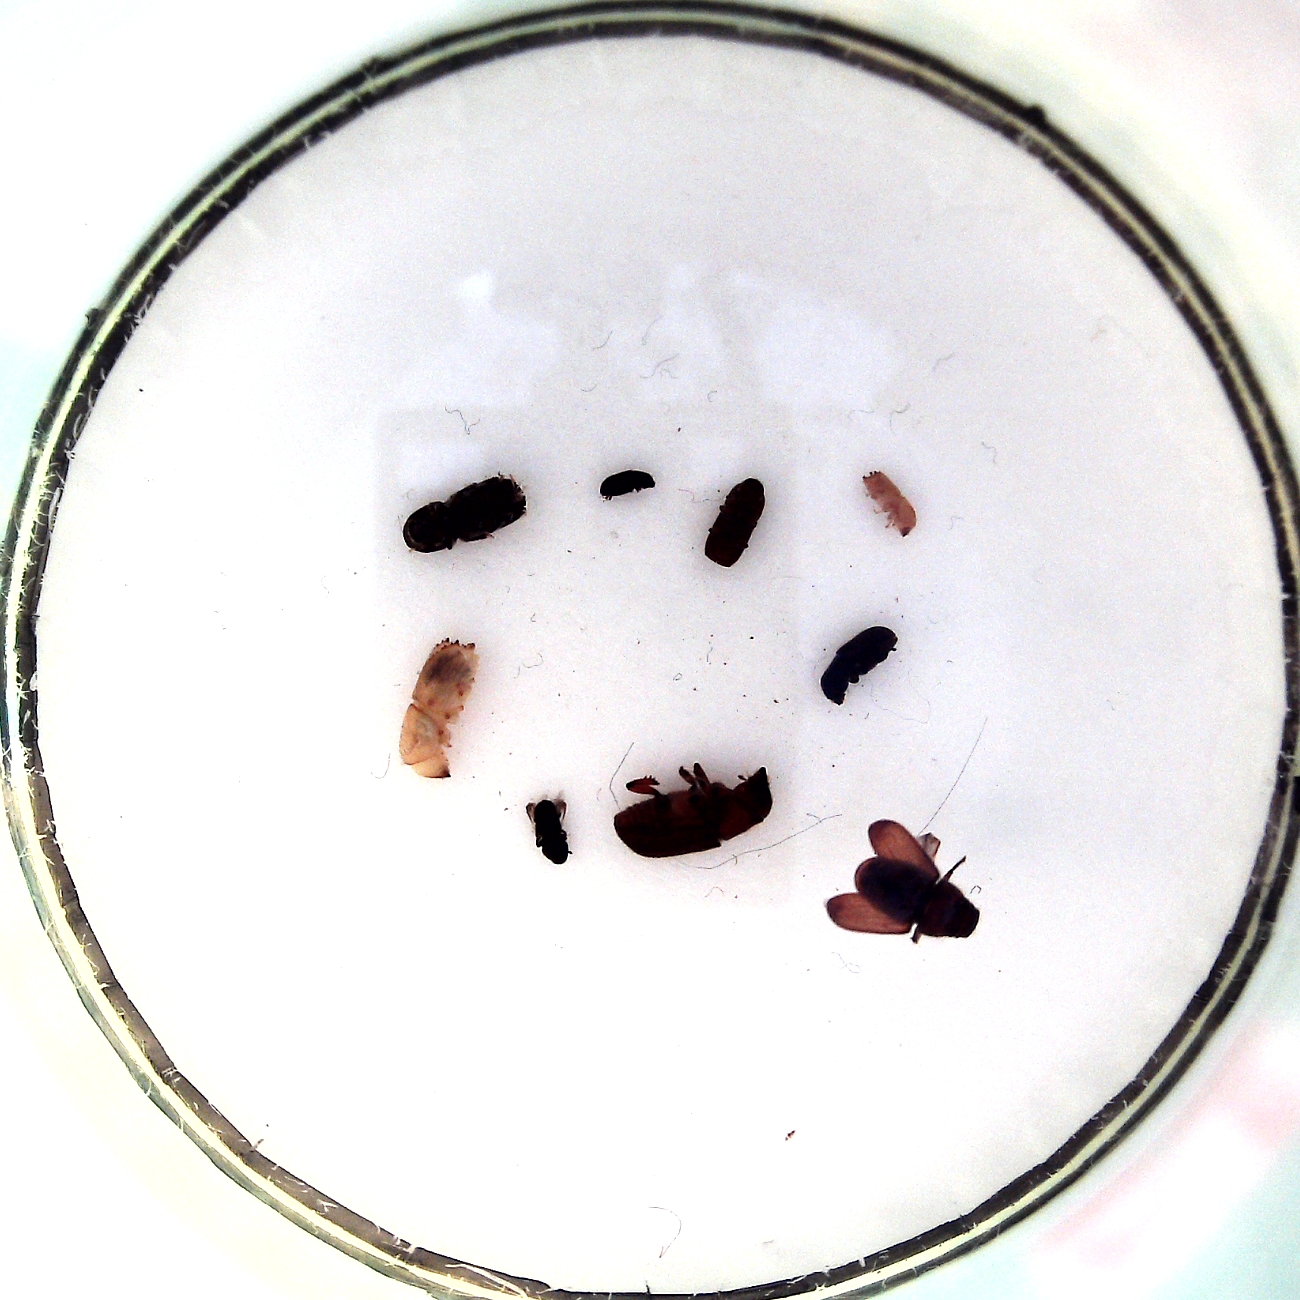Boerner: (392, 631, 482, 788)
Leconte: (819, 811, 985, 946), (606, 756, 779, 862), (393, 470, 539, 561)
Linnaeus: (700, 470, 770, 574)
acuminatus: (852, 464, 926, 539)
armandi: (811, 620, 908, 706)
coleoptera: (521, 785, 577, 867), (595, 462, 665, 505)
